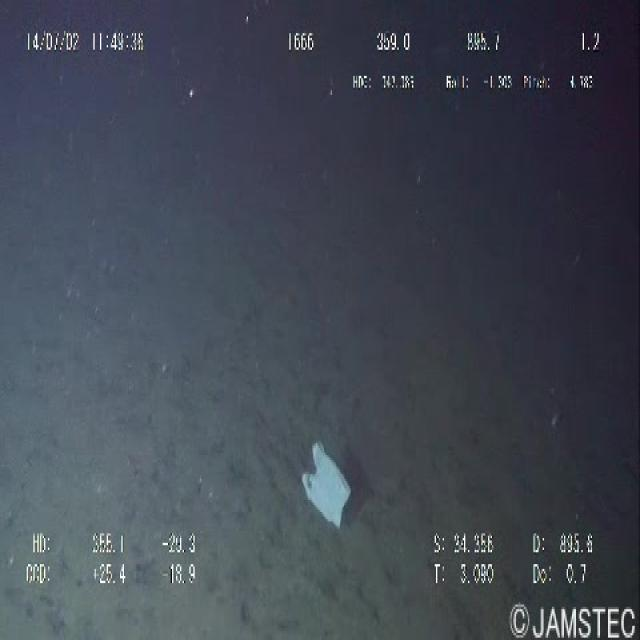plastic: (291, 434, 356, 543)
